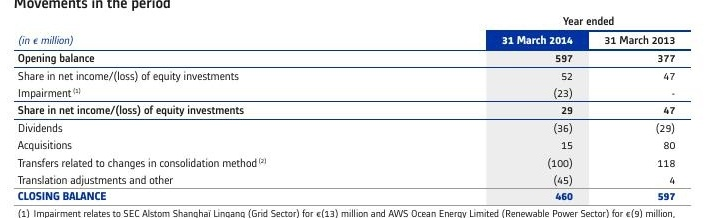table: (0, 0, 707, 218)
